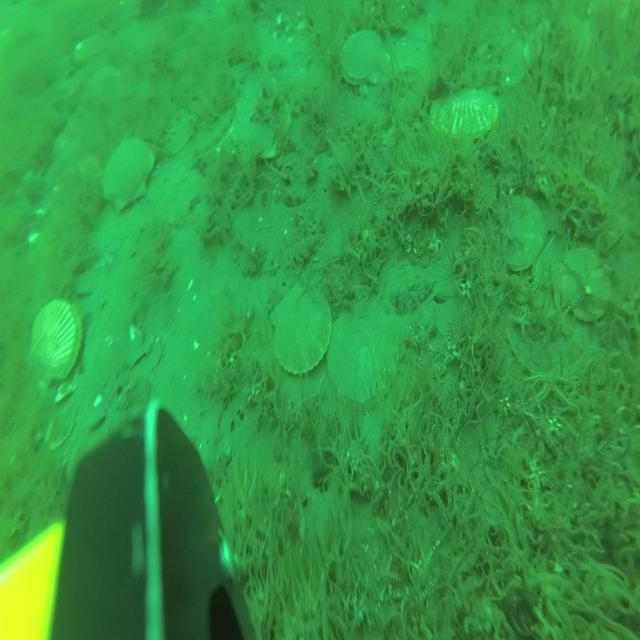scallop: (328, 304, 398, 406), (269, 287, 331, 376), (523, 16, 595, 79), (28, 304, 82, 380), (237, 87, 289, 164), (430, 85, 498, 143), (104, 139, 156, 214), (500, 193, 542, 270), (339, 30, 391, 86)
